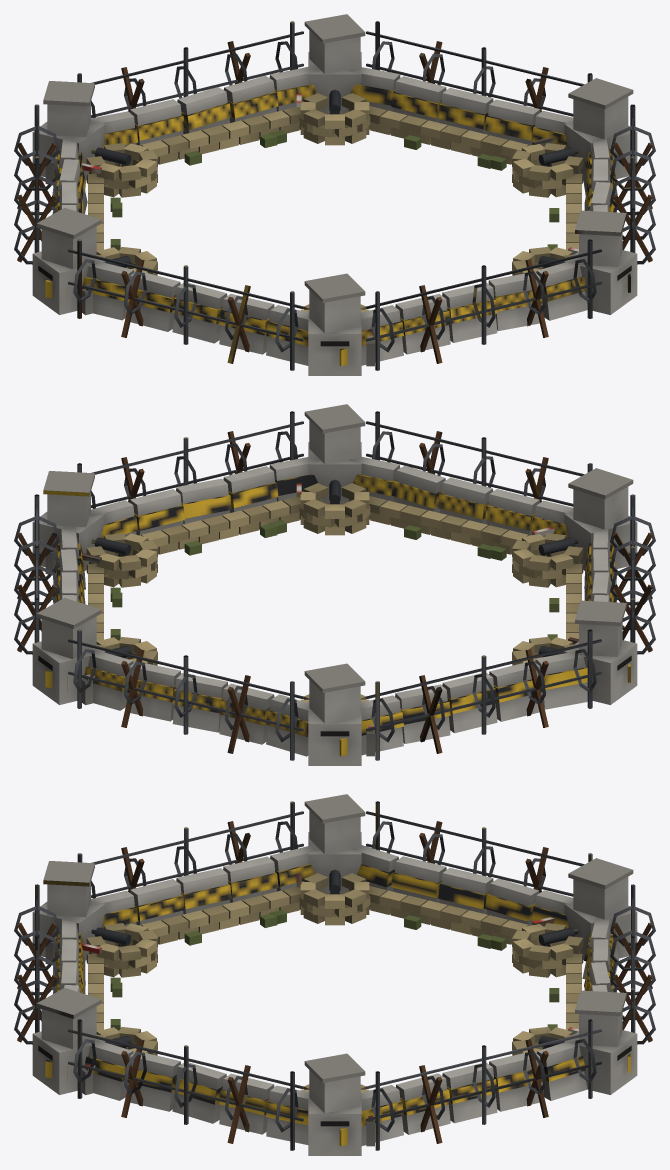
File: fort_l5.glb
The picture shows the model from 3 angles, top to bottom: view 1: azimuth 30°, elevation 25°; view 2: azimuth 150°, elevation 25°; view 3: azimuth 270°, elevation 25°; orthographic projection.
Parts seen in each view (by area): view 1: fort_l5; view 2: fort_l5; view 3: fort_l5.
Part boxes in pixels (left/top/right/bottom): fort_l5: left=14, top=14, right=655, bottom=375; fort_l5: left=14, top=404, right=655, bottom=765; fort_l5: left=14, top=794, right=655, bottom=1155.
Size of the model in its own units: 1.89 by 0.2447 by 1.8.
1 material, 1 textured.
